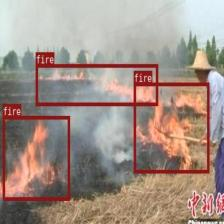fire: (134, 82, 209, 172), (3, 115, 70, 200), (35, 64, 158, 106)
